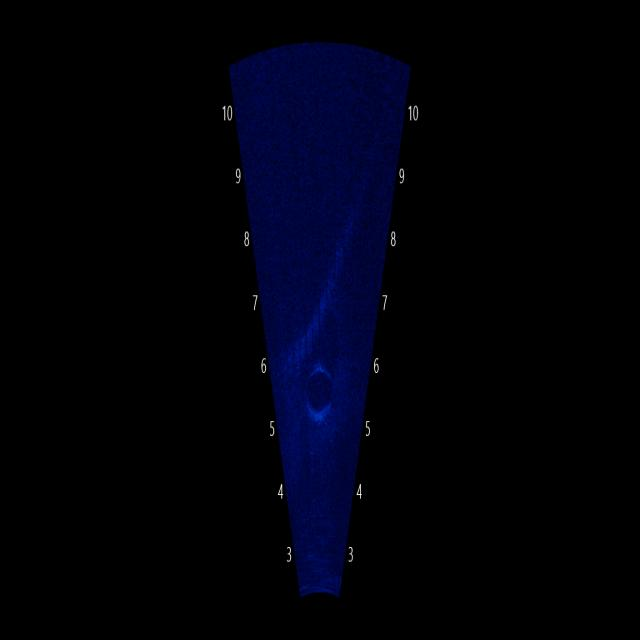circle: (299, 358, 344, 449)
